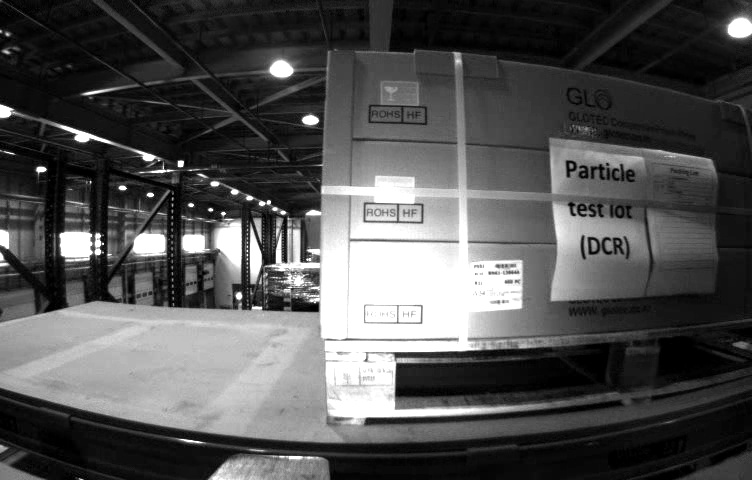True Barcode: (467, 263, 522, 310)
